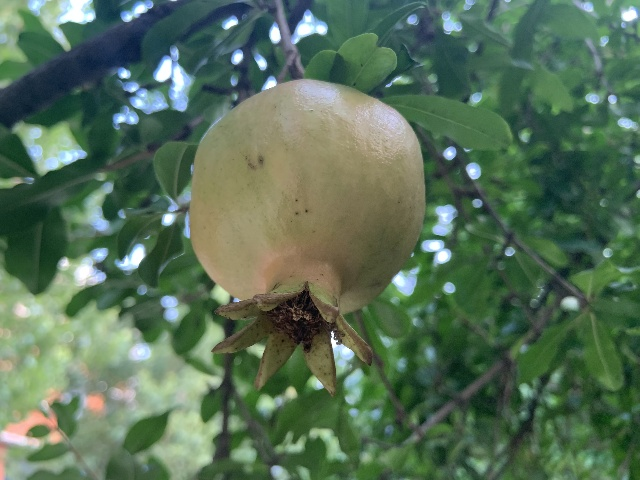mid-growth: (188, 79, 425, 397)
